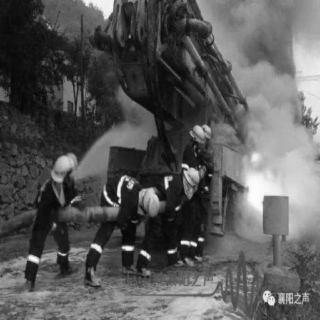other: (180, 155, 201, 191), (89, 244, 105, 254)
